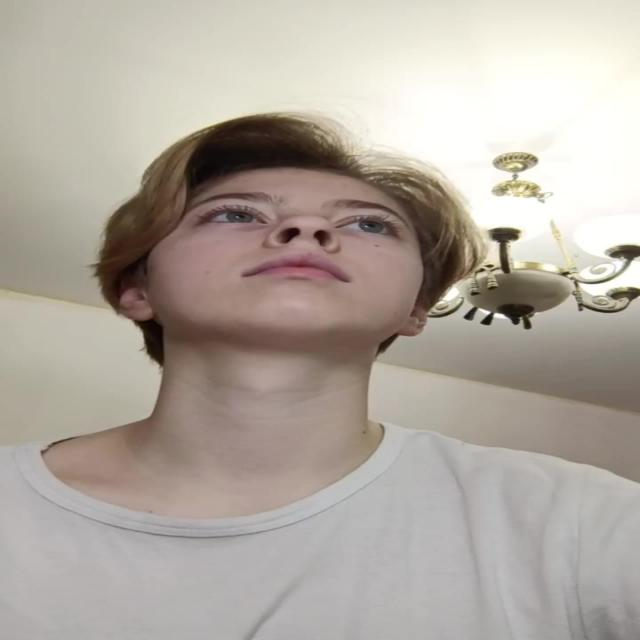earlobe: (115, 279, 157, 322), (396, 302, 430, 339)
